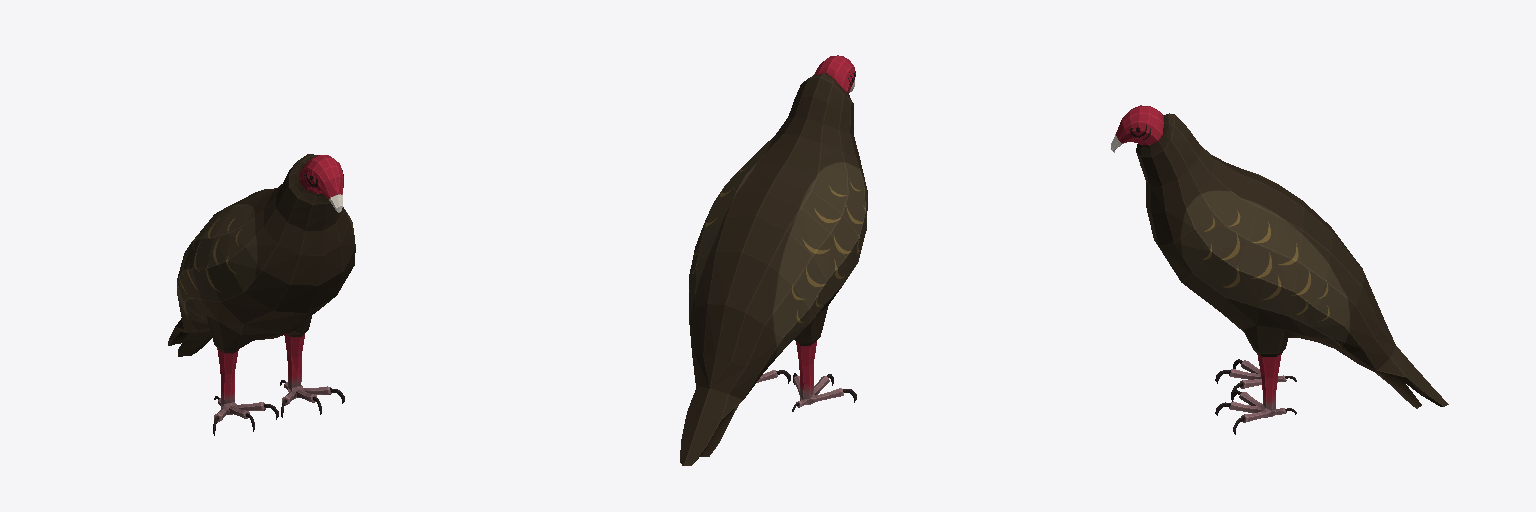
3 views of the same model, side by side, from view 1: azimuth 30°, elevation 25°; view 2: azimuth 150°, elevation 25°; view 3: azimuth 270°, elevation 25° (orthographic).
Parts seen in each view (by area): view 1: TurkeyVulture_mesh2; view 2: TurkeyVulture_mesh2; view 3: TurkeyVulture_mesh2.
Part boxes in pixels (bbox=[...]): TurkeyVulture_mesh2: bbox=[168, 154, 355, 435]; TurkeyVulture_mesh2: bbox=[680, 55, 867, 465]; TurkeyVulture_mesh2: bbox=[1111, 105, 1448, 434].
Bounding box in the file's own units: 5.38 × 10.81 × 11.09.
1 materials, 1 textured.